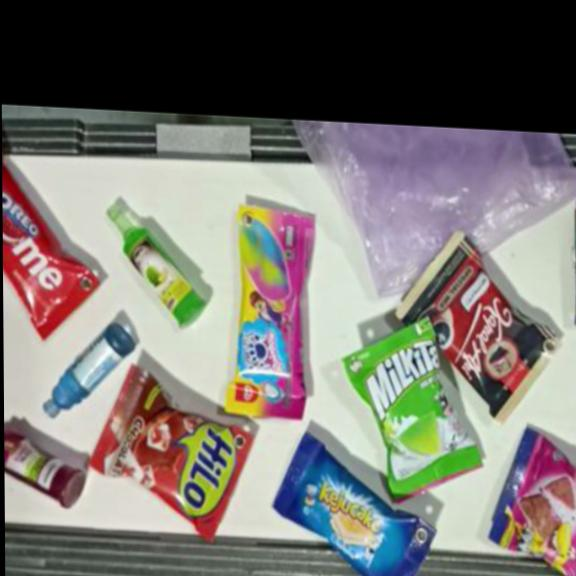Plastik: (291, 120, 576, 308), (393, 228, 564, 426), (89, 361, 254, 544), (337, 312, 484, 508), (269, 429, 436, 576), (224, 204, 314, 420), (1, 156, 102, 343), (488, 422, 576, 576), (105, 201, 207, 329), (39, 316, 134, 423), (3, 430, 86, 510)
